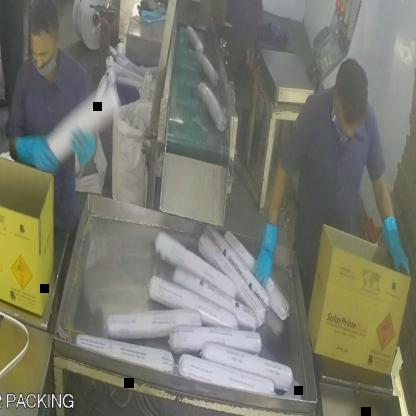glove: (380, 202, 416, 296), (248, 203, 282, 302), (17, 123, 60, 181)
no_glove: (2, 0, 25, 22)
